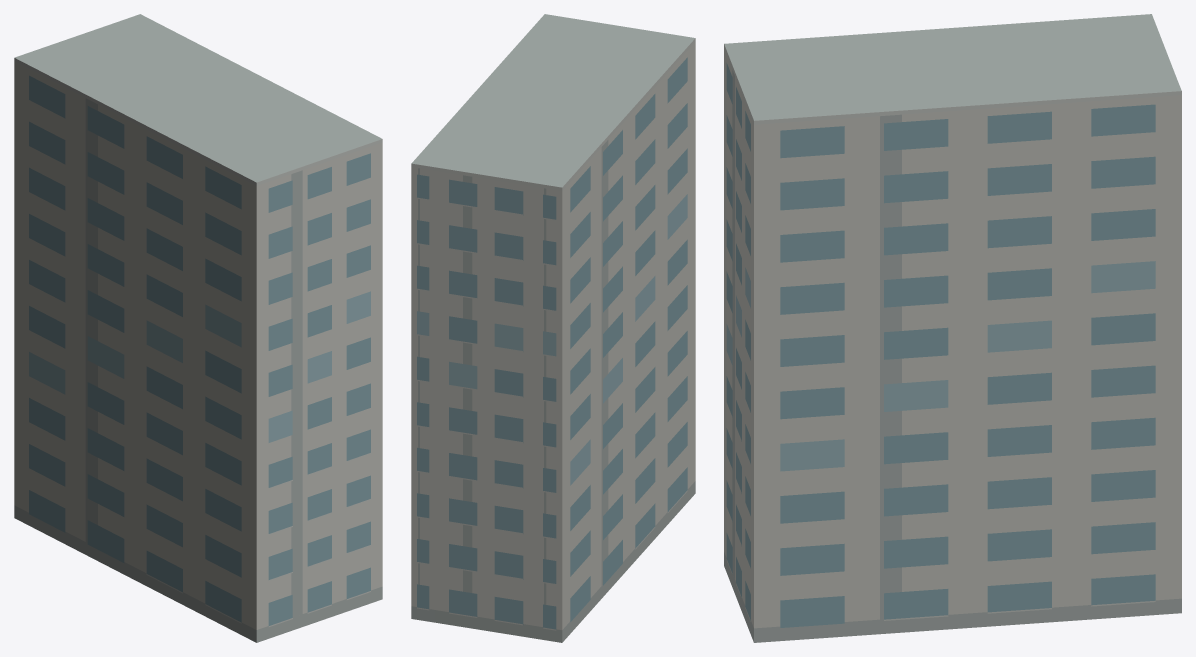
File: residential-22b021e0-84c3-4907-ba3b-613a4bbda42b.glb
The picture shows the model from 3 angles, left to right: view 1: azimuth 30°, elevation 25°; view 2: azimuth 150°, elevation 25°; view 3: azimuth 270°, elevation 25°; orthographic projection. The views are drawn at different scales.
Visible parts, largest first — view 1: residential-22b021e0-84c3-4907-ba3b-613a4bbda42b.tmp; view 2: residential-22b021e0-84c3-4907-ba3b-613a4bbda42b.tmp; view 3: residential-22b021e0-84c3-4907-ba3b-613a4bbda42b.tmp.
Boxes of the visible parts, x1,y1,x2,y2 form: residential-22b021e0-84c3-4907-ba3b-613a4bbda42b.tmp: (14,14,382,642); residential-22b021e0-84c3-4907-ba3b-613a4bbda42b.tmp: (411,14,695,642); residential-22b021e0-84c3-4907-ba3b-613a4bbda42b.tmp: (724,14,1181,642).
Bounding box in the file's own units: 13.62 × 31 × 24.65.
